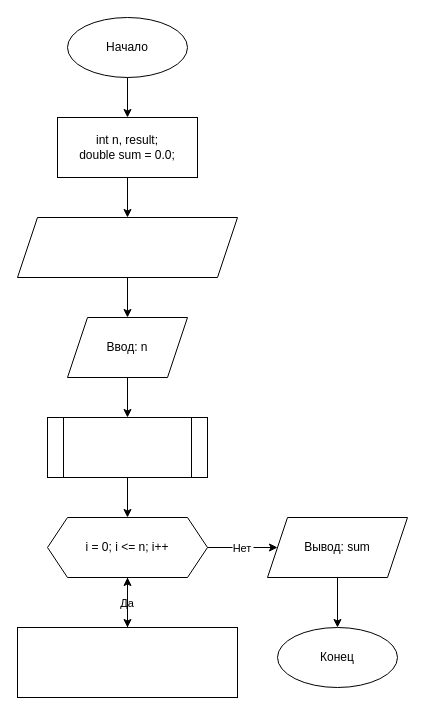
This 425x715 diagram has some shape labels left out. The shapes that lost their labels are listed below. From the top down, each one's centre as x and y in pixels, then its label:
pixel 127 247: Вывод: "Введите целое число n..."
pixel 127 447: result = homework(n);
pixel 127 662: num = pow(-1, i) * (1. / pow(2, i)); sum += num;
